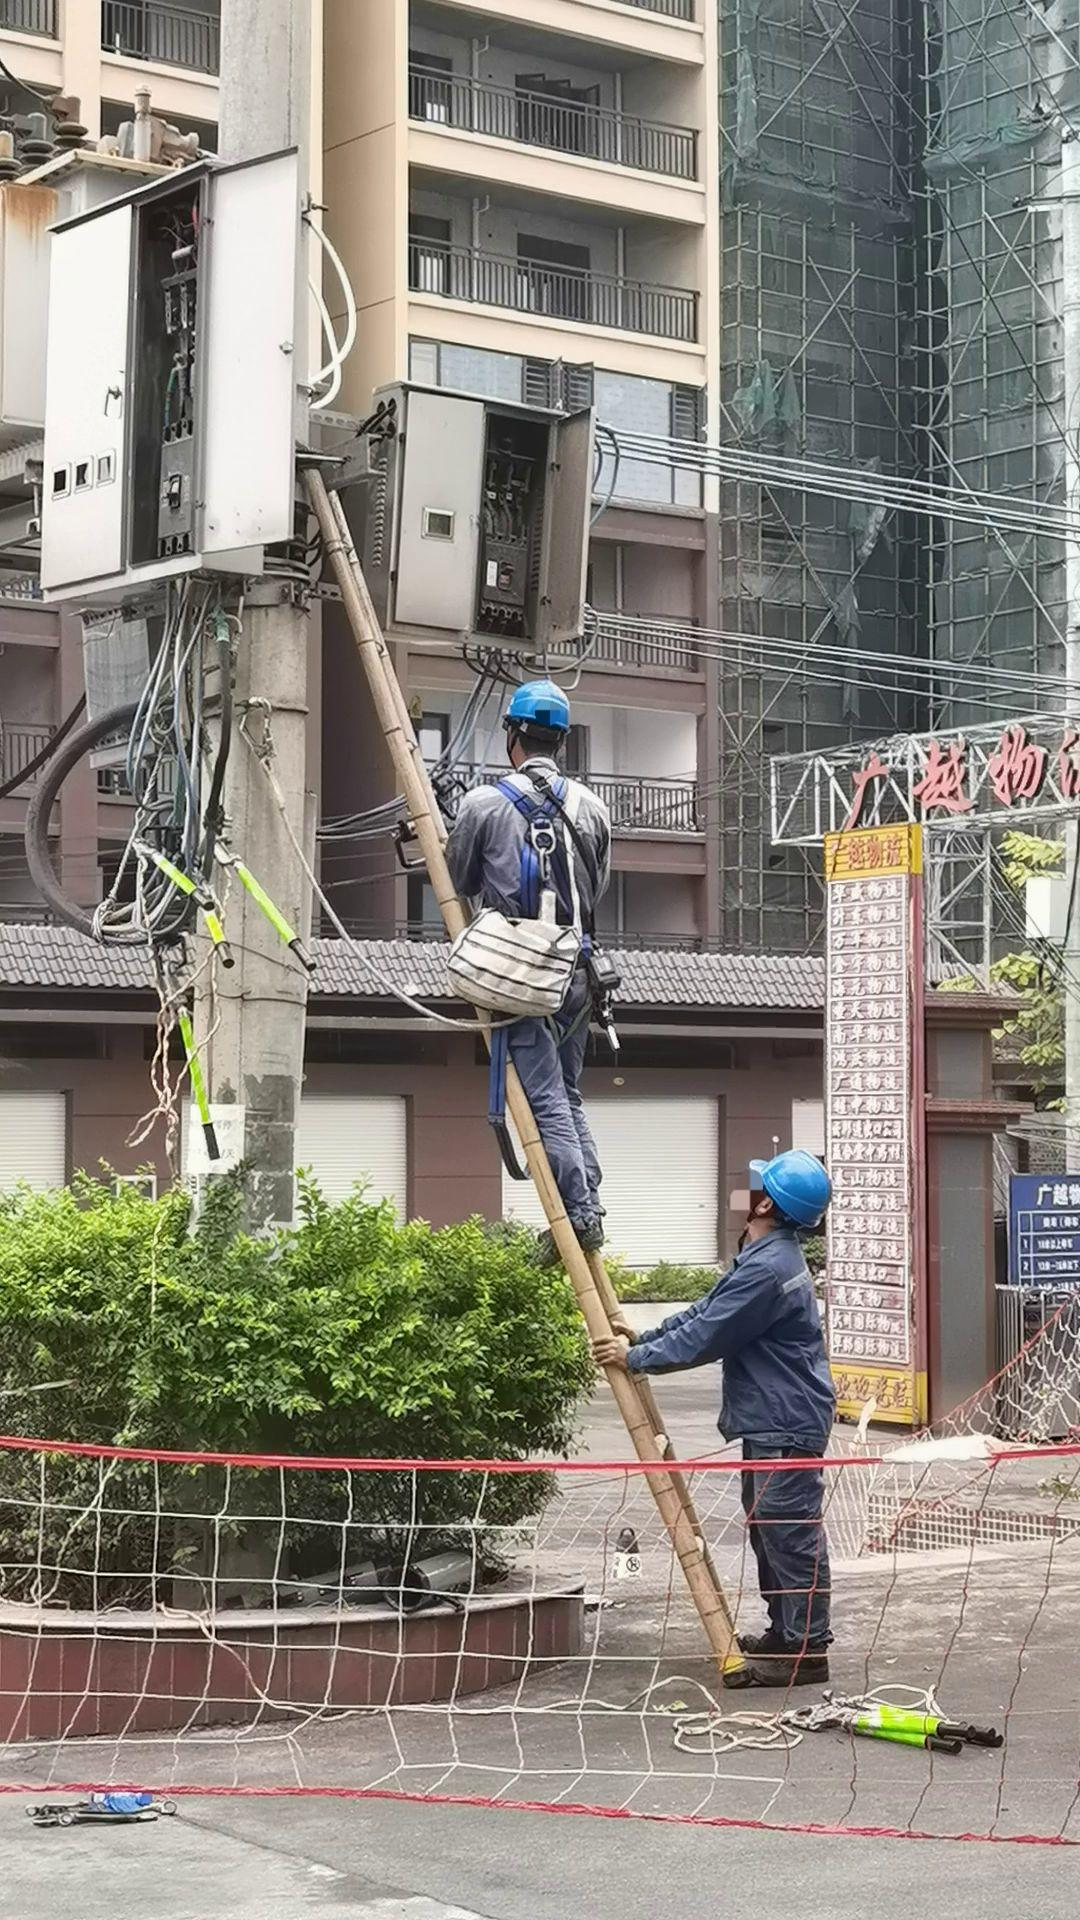halt: (742, 1155, 833, 1232), (502, 680, 578, 766)
inear: (749, 1189, 781, 1228)
